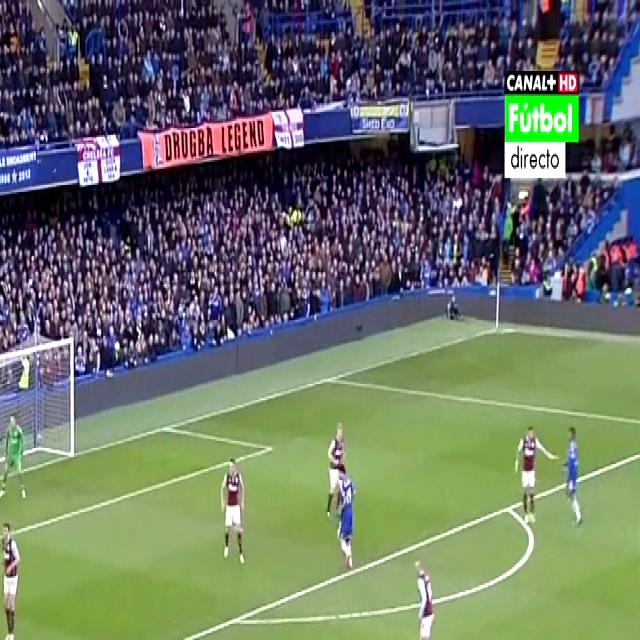goalkeeper: (0, 402, 33, 510)
soccer-player: (218, 443, 255, 572), (511, 413, 546, 529), (552, 416, 586, 534), (405, 544, 442, 640), (333, 463, 361, 583), (324, 412, 354, 522), (0, 514, 24, 640)
